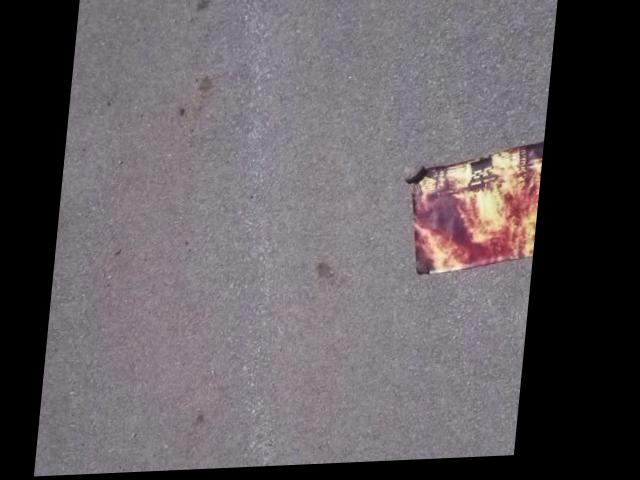fire-poster: (399, 143, 547, 282)
